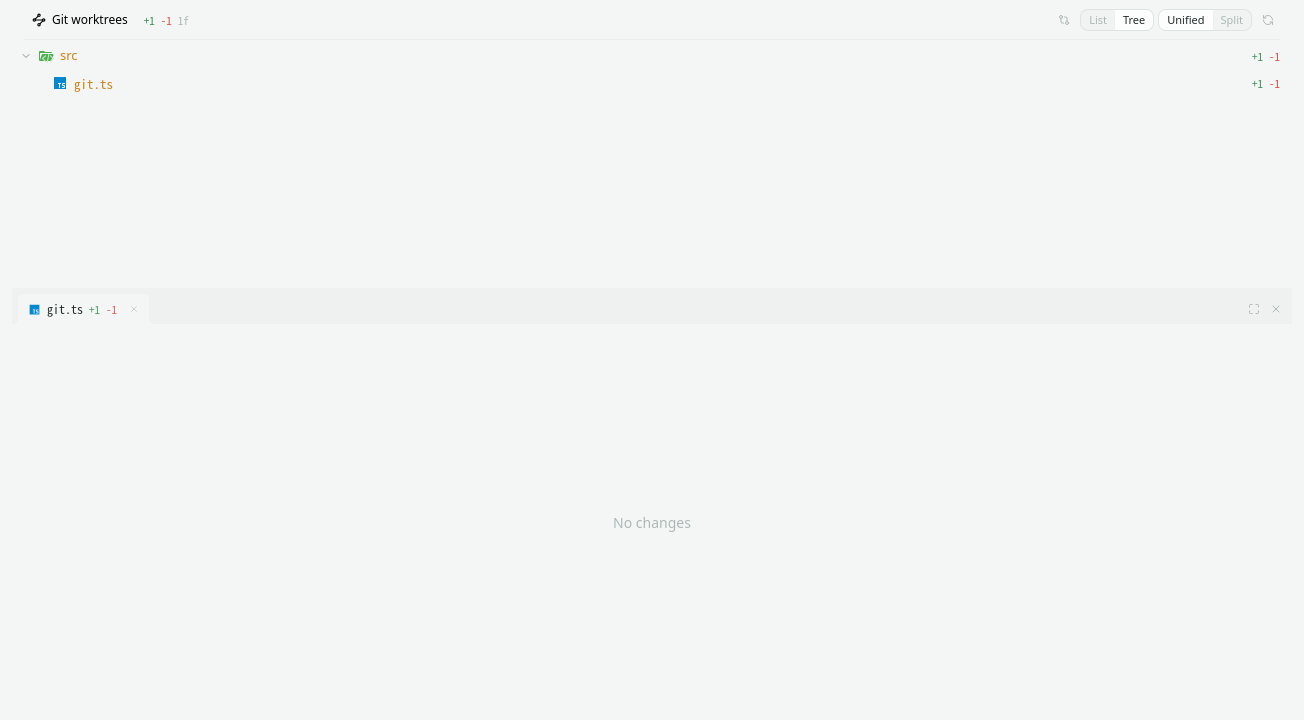
SessionChangesPanel › switches to branch changes when available
Click the button named "Change mode:" at (1064,20), box left=1052, top=8, right=1076, bottom=32
Wait 48 ms
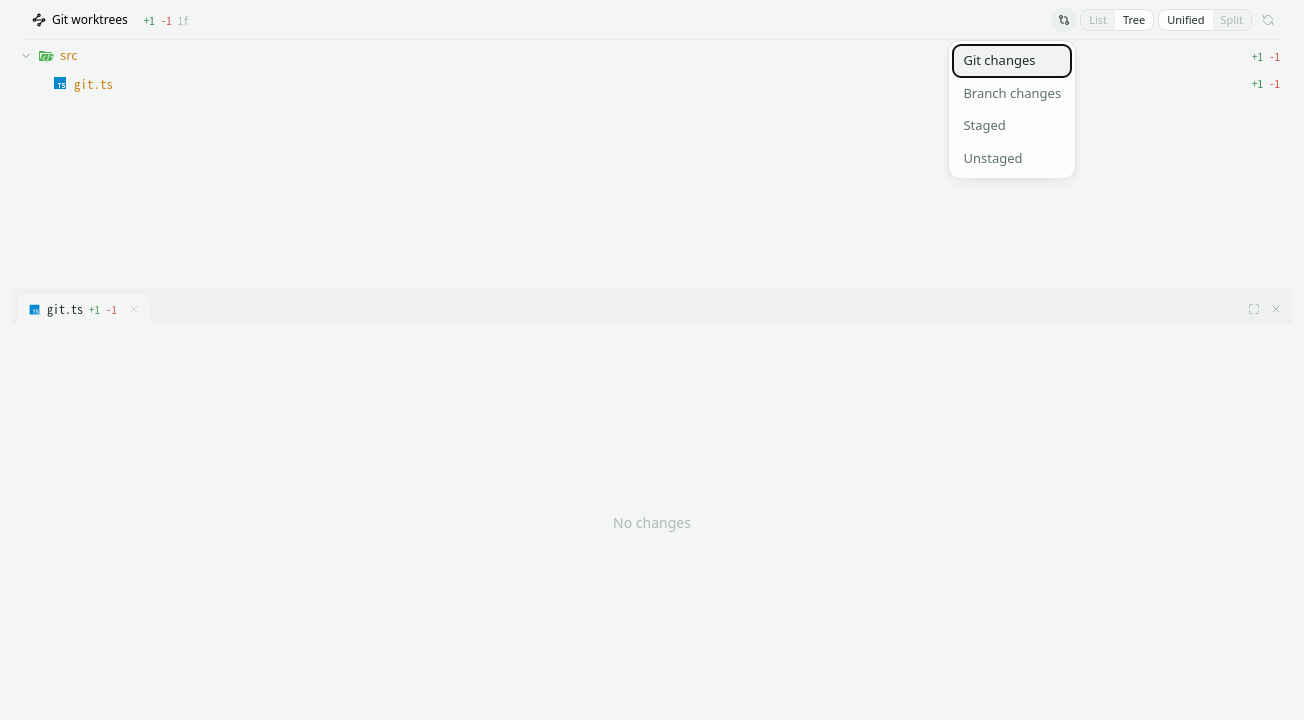
Click the menu item "Branch changes" at (1012,93), box left=953, top=78, right=1071, bottom=109
Wait 240 ms
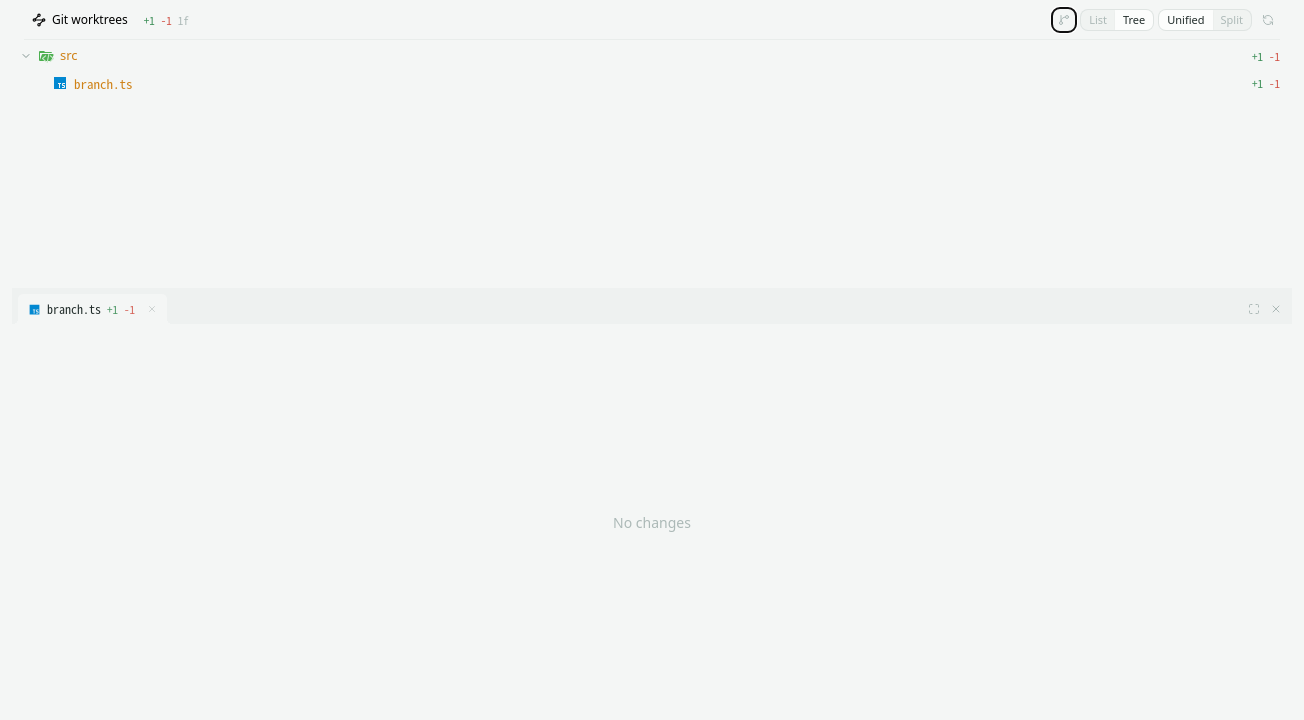
expect the text "branch.ts" below "1f" is shown: met, box left=74, top=74, right=132, bottom=92
